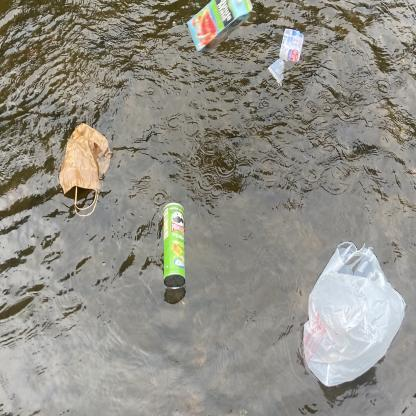trash: (300, 237, 410, 396), (54, 116, 119, 220), (180, 0, 259, 64), (156, 194, 194, 298), (266, 24, 308, 88)
